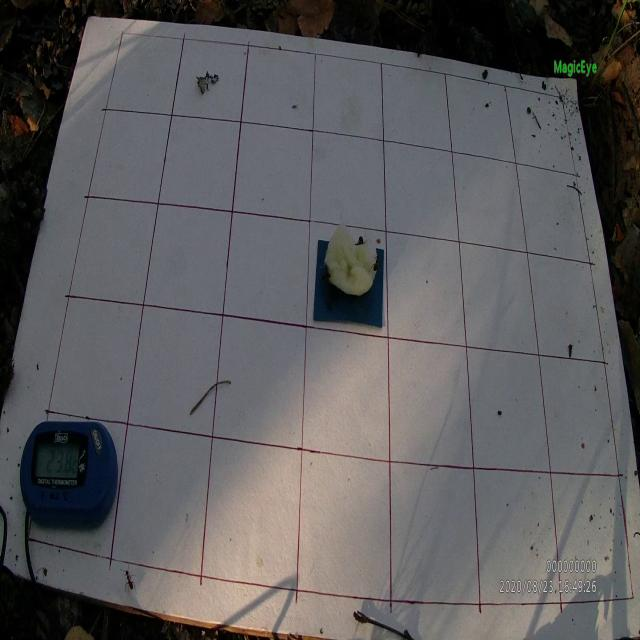Ant: (119, 564, 136, 595), (368, 254, 381, 280)
